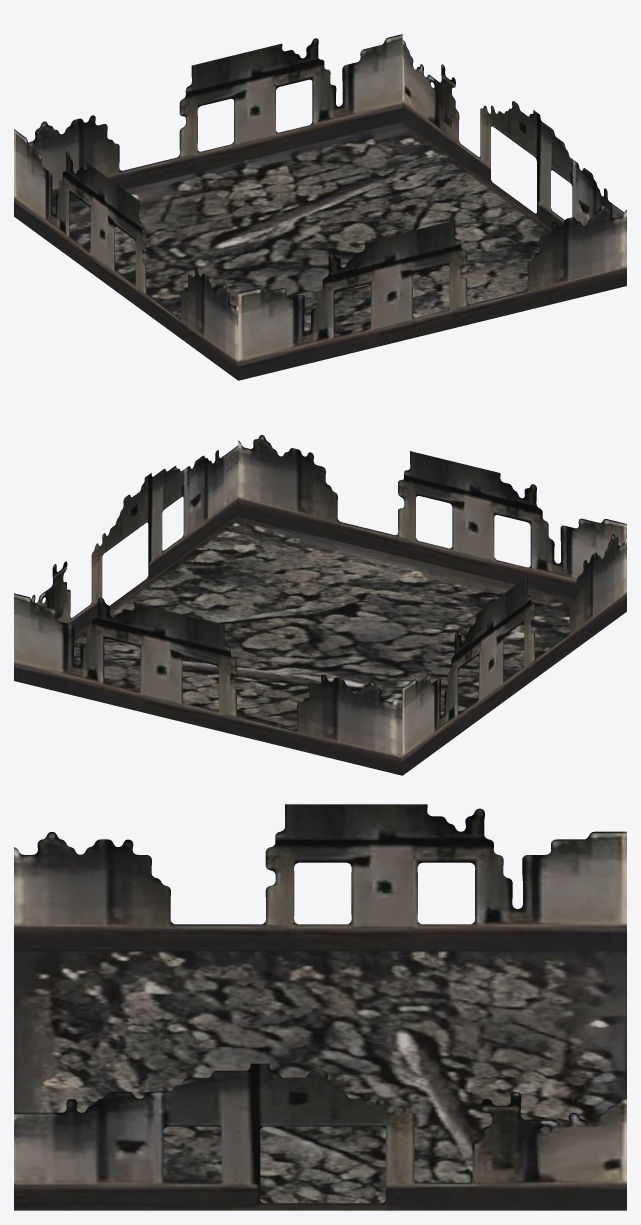
File: city6storya_dam_hdtex.glb
The picture shows the model from 3 angles, top to bottom: view 1: azimuth 30°, elevation 25°; view 2: azimuth 150°, elevation 25°; view 3: azimuth 270°, elevation 25°; orthographic projection. The views are drawn at different scales.
Parts seen in each view (by area): view 1: City2StoryA; view 2: City2StoryA; view 3: City2StoryA.
Boxes of the visible parts, bbox=[...] form: City2StoryA: bbox=[14, 34, 626, 380]; City2StoryA: bbox=[14, 435, 626, 775]; City2StoryA: bbox=[14, 804, 626, 1210].
Bounding box in the file's own units: 17.76 × 4.7 × 17.76.
1 material, 1 textured.
